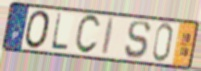0: (152, 21, 174, 64)
C: (73, 14, 102, 56)
I: (100, 16, 117, 58)
L: (49, 12, 70, 53)
O: (24, 9, 52, 50)
S: (123, 20, 152, 60)
